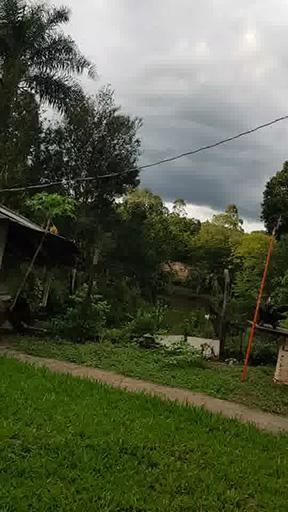Vara_Manobra: (242, 232, 275, 381)
